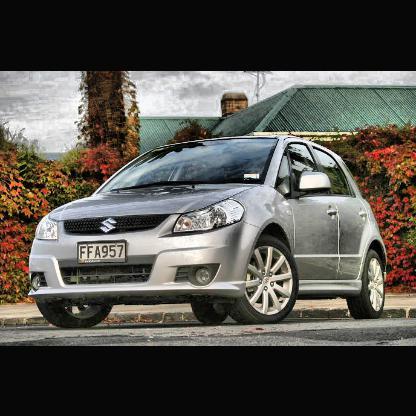Suzuki SX4 Hatchback 2012: (27, 138, 391, 329)
